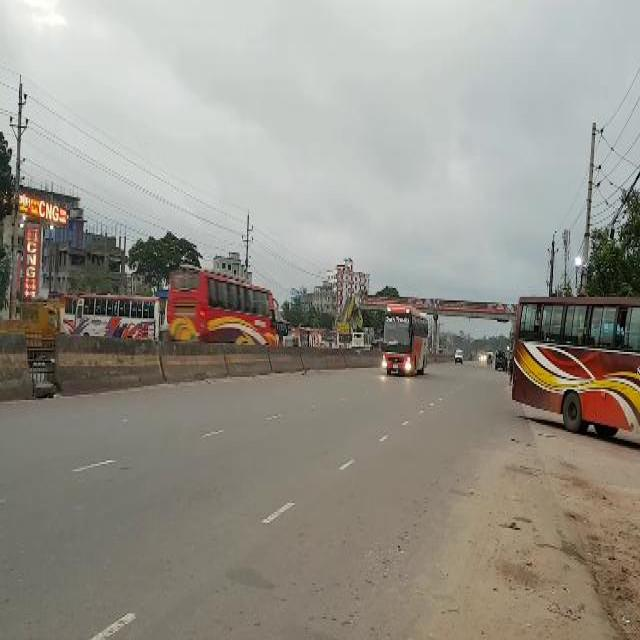vehicle: (514, 291, 640, 433), (76, 295, 161, 336), (383, 304, 429, 377), (496, 350, 506, 370), (455, 350, 463, 364)
